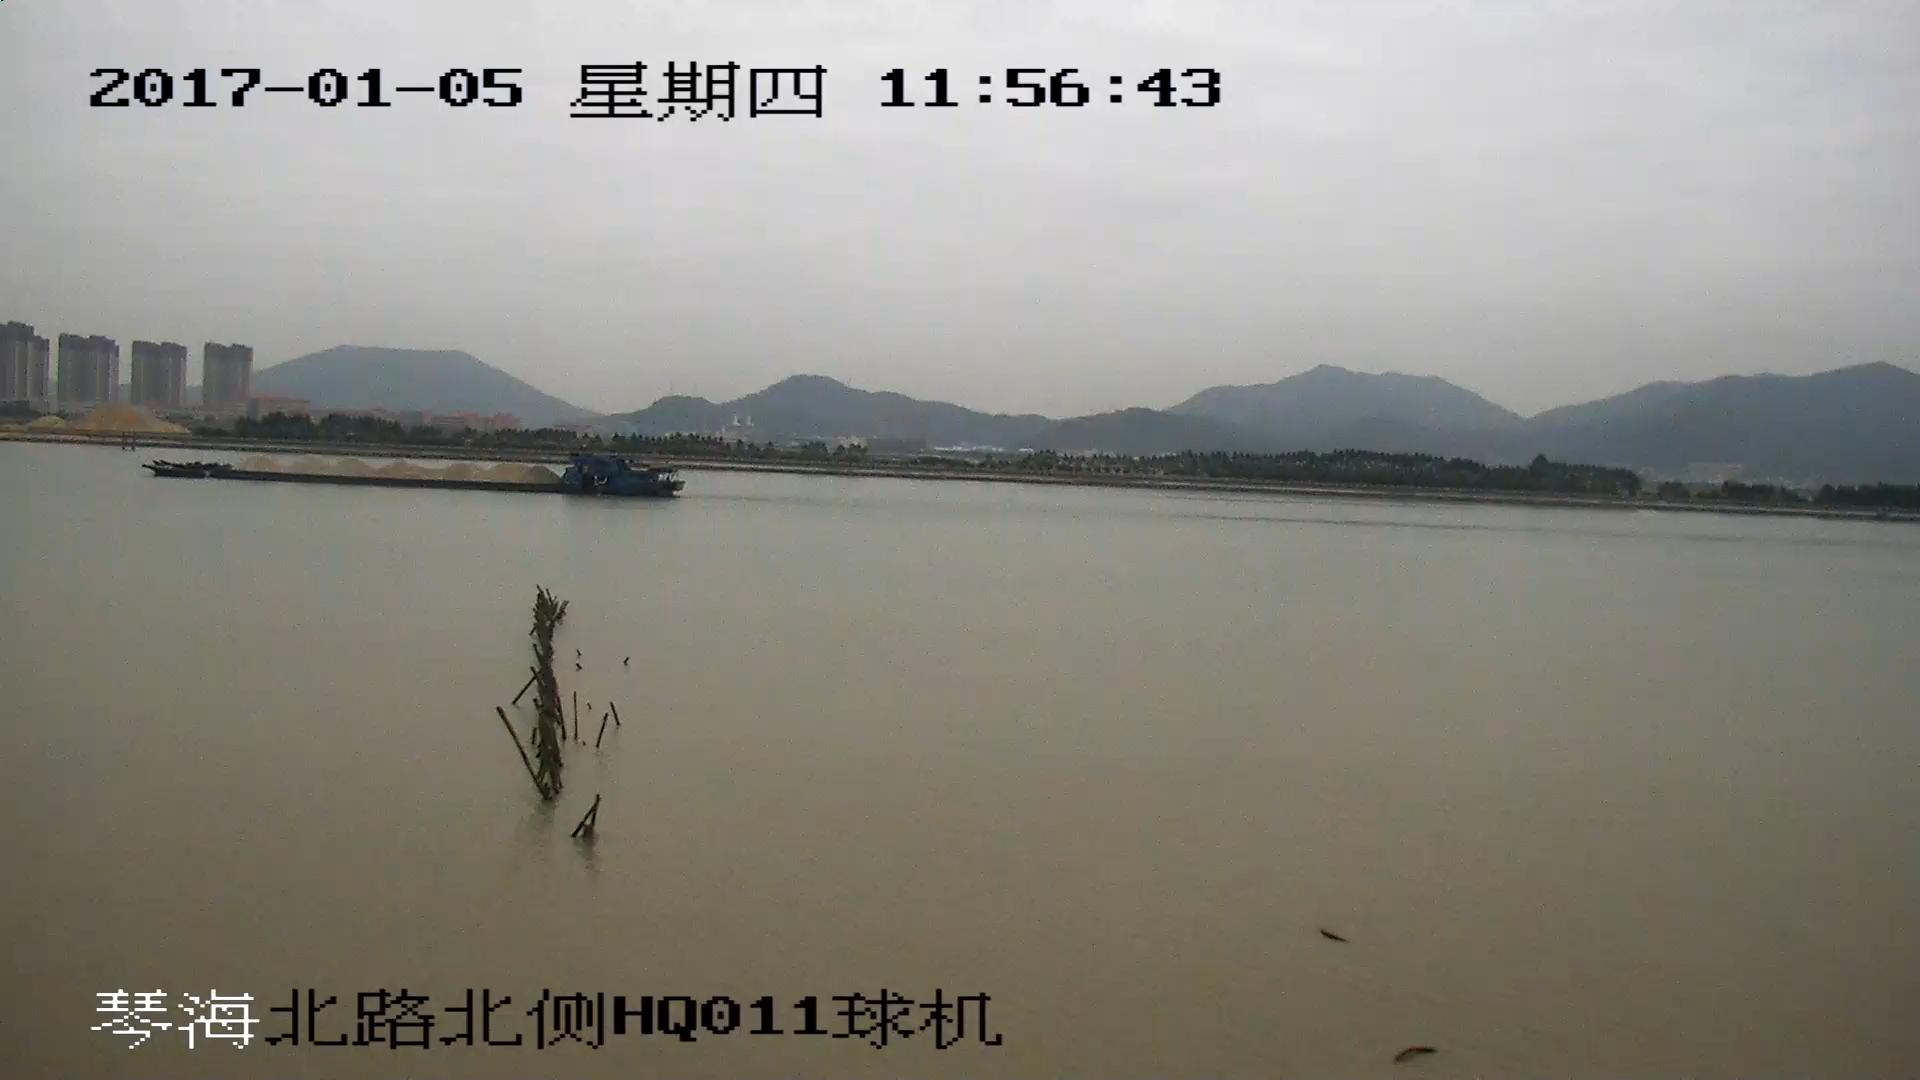ore carrier: (152, 456, 680, 504)
